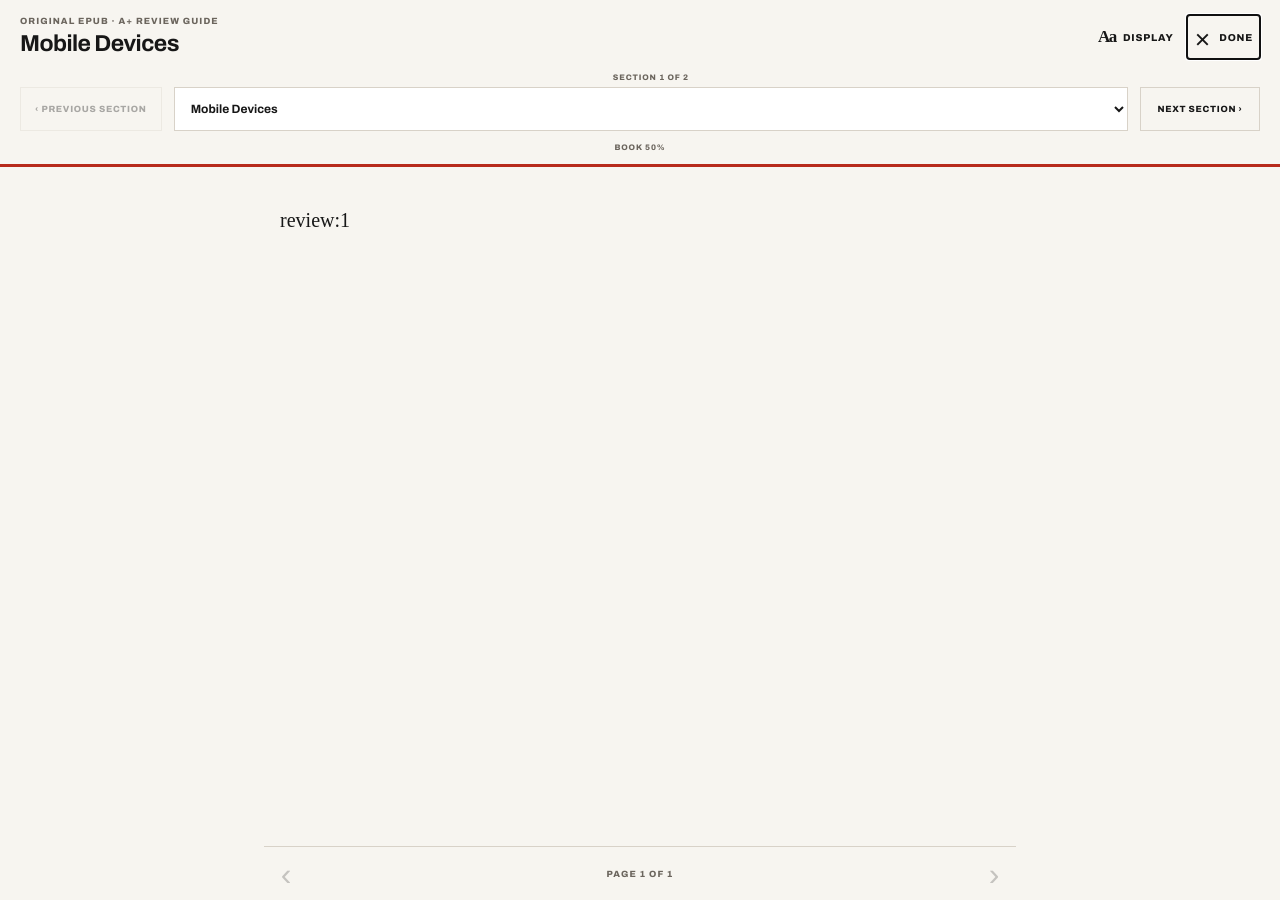
Test: BookReader › navigates original EPUB sections and never renders the Markdown fallback
The width and height of the screenshot is (1280, 900).
Expected: the text "review:1" is shown, left=280, top=209, right=350, bottom=231
Click the button with aria-label "Next EPUB section": (1200, 109) left=1140, top=87, right=1260, bottom=131
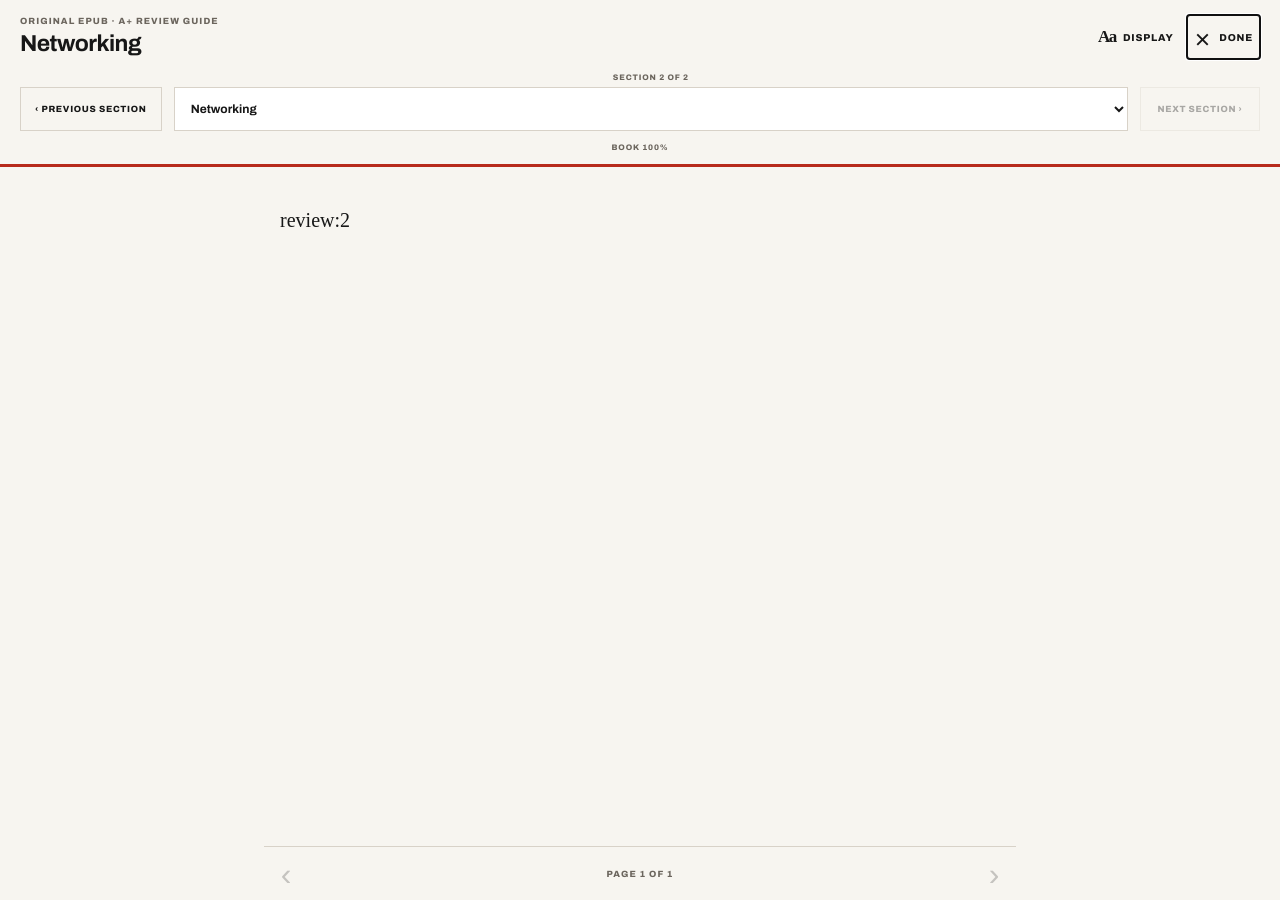
Expected: the text "Book 100%" is shown, left=612, top=143, right=669, bottom=152
Result: the text "review:2" is shown at left=280, top=209, right=350, bottom=231
